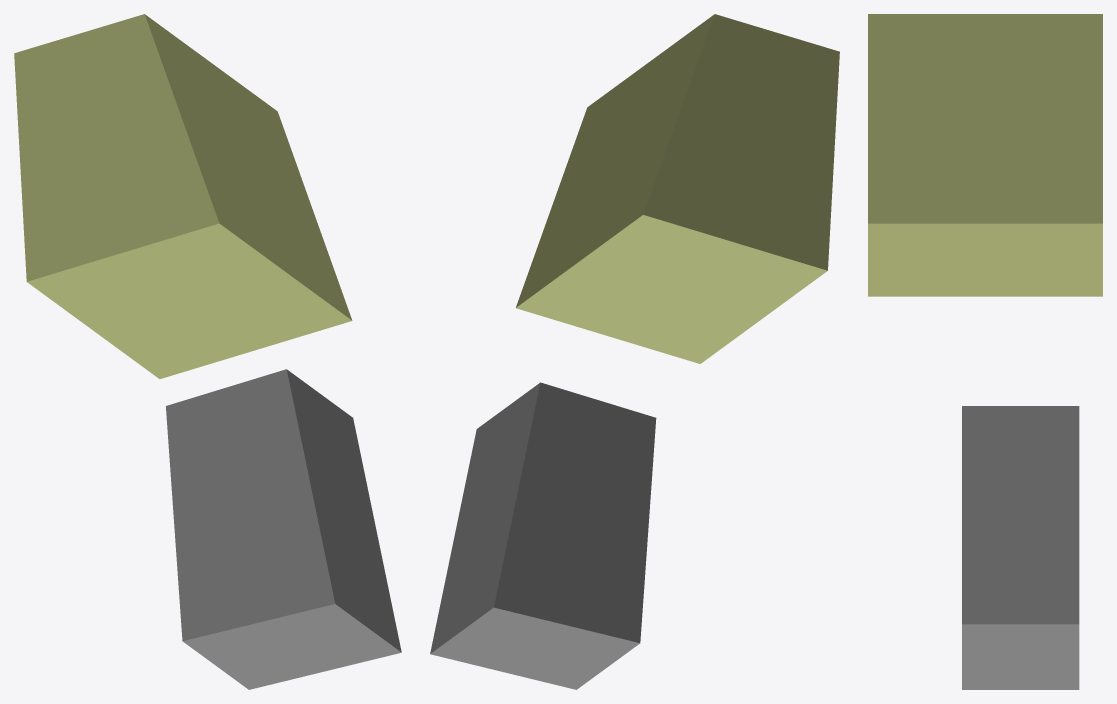
3 views of the same model, side by side, from view 1: azimuth 30°, elevation 25°; view 2: azimuth 150°, elevation 25°; view 3: azimuth 270°, elevation 25° (orthographic). The views are drawn at different scales.
Visible parts, largest first — view 1: 0_1_0_2_0_0_2_1_0_0; view 2: 0_1_0_2_0_0_2_1_0_0; view 3: 0_1_0_2_0_0_2_1_0_0.
Boxes of the visible parts, x1,y1,x2,y2 form: 0_1_0_2_0_0_2_1_0_0: [14, 14, 401, 689]; 0_1_0_2_0_0_2_1_0_0: [430, 14, 839, 689]; 0_1_0_2_0_0_2_1_0_0: [868, 14, 1102, 689].
Bounding box in the file's own units: 8.01 × 15.51 × 6.
